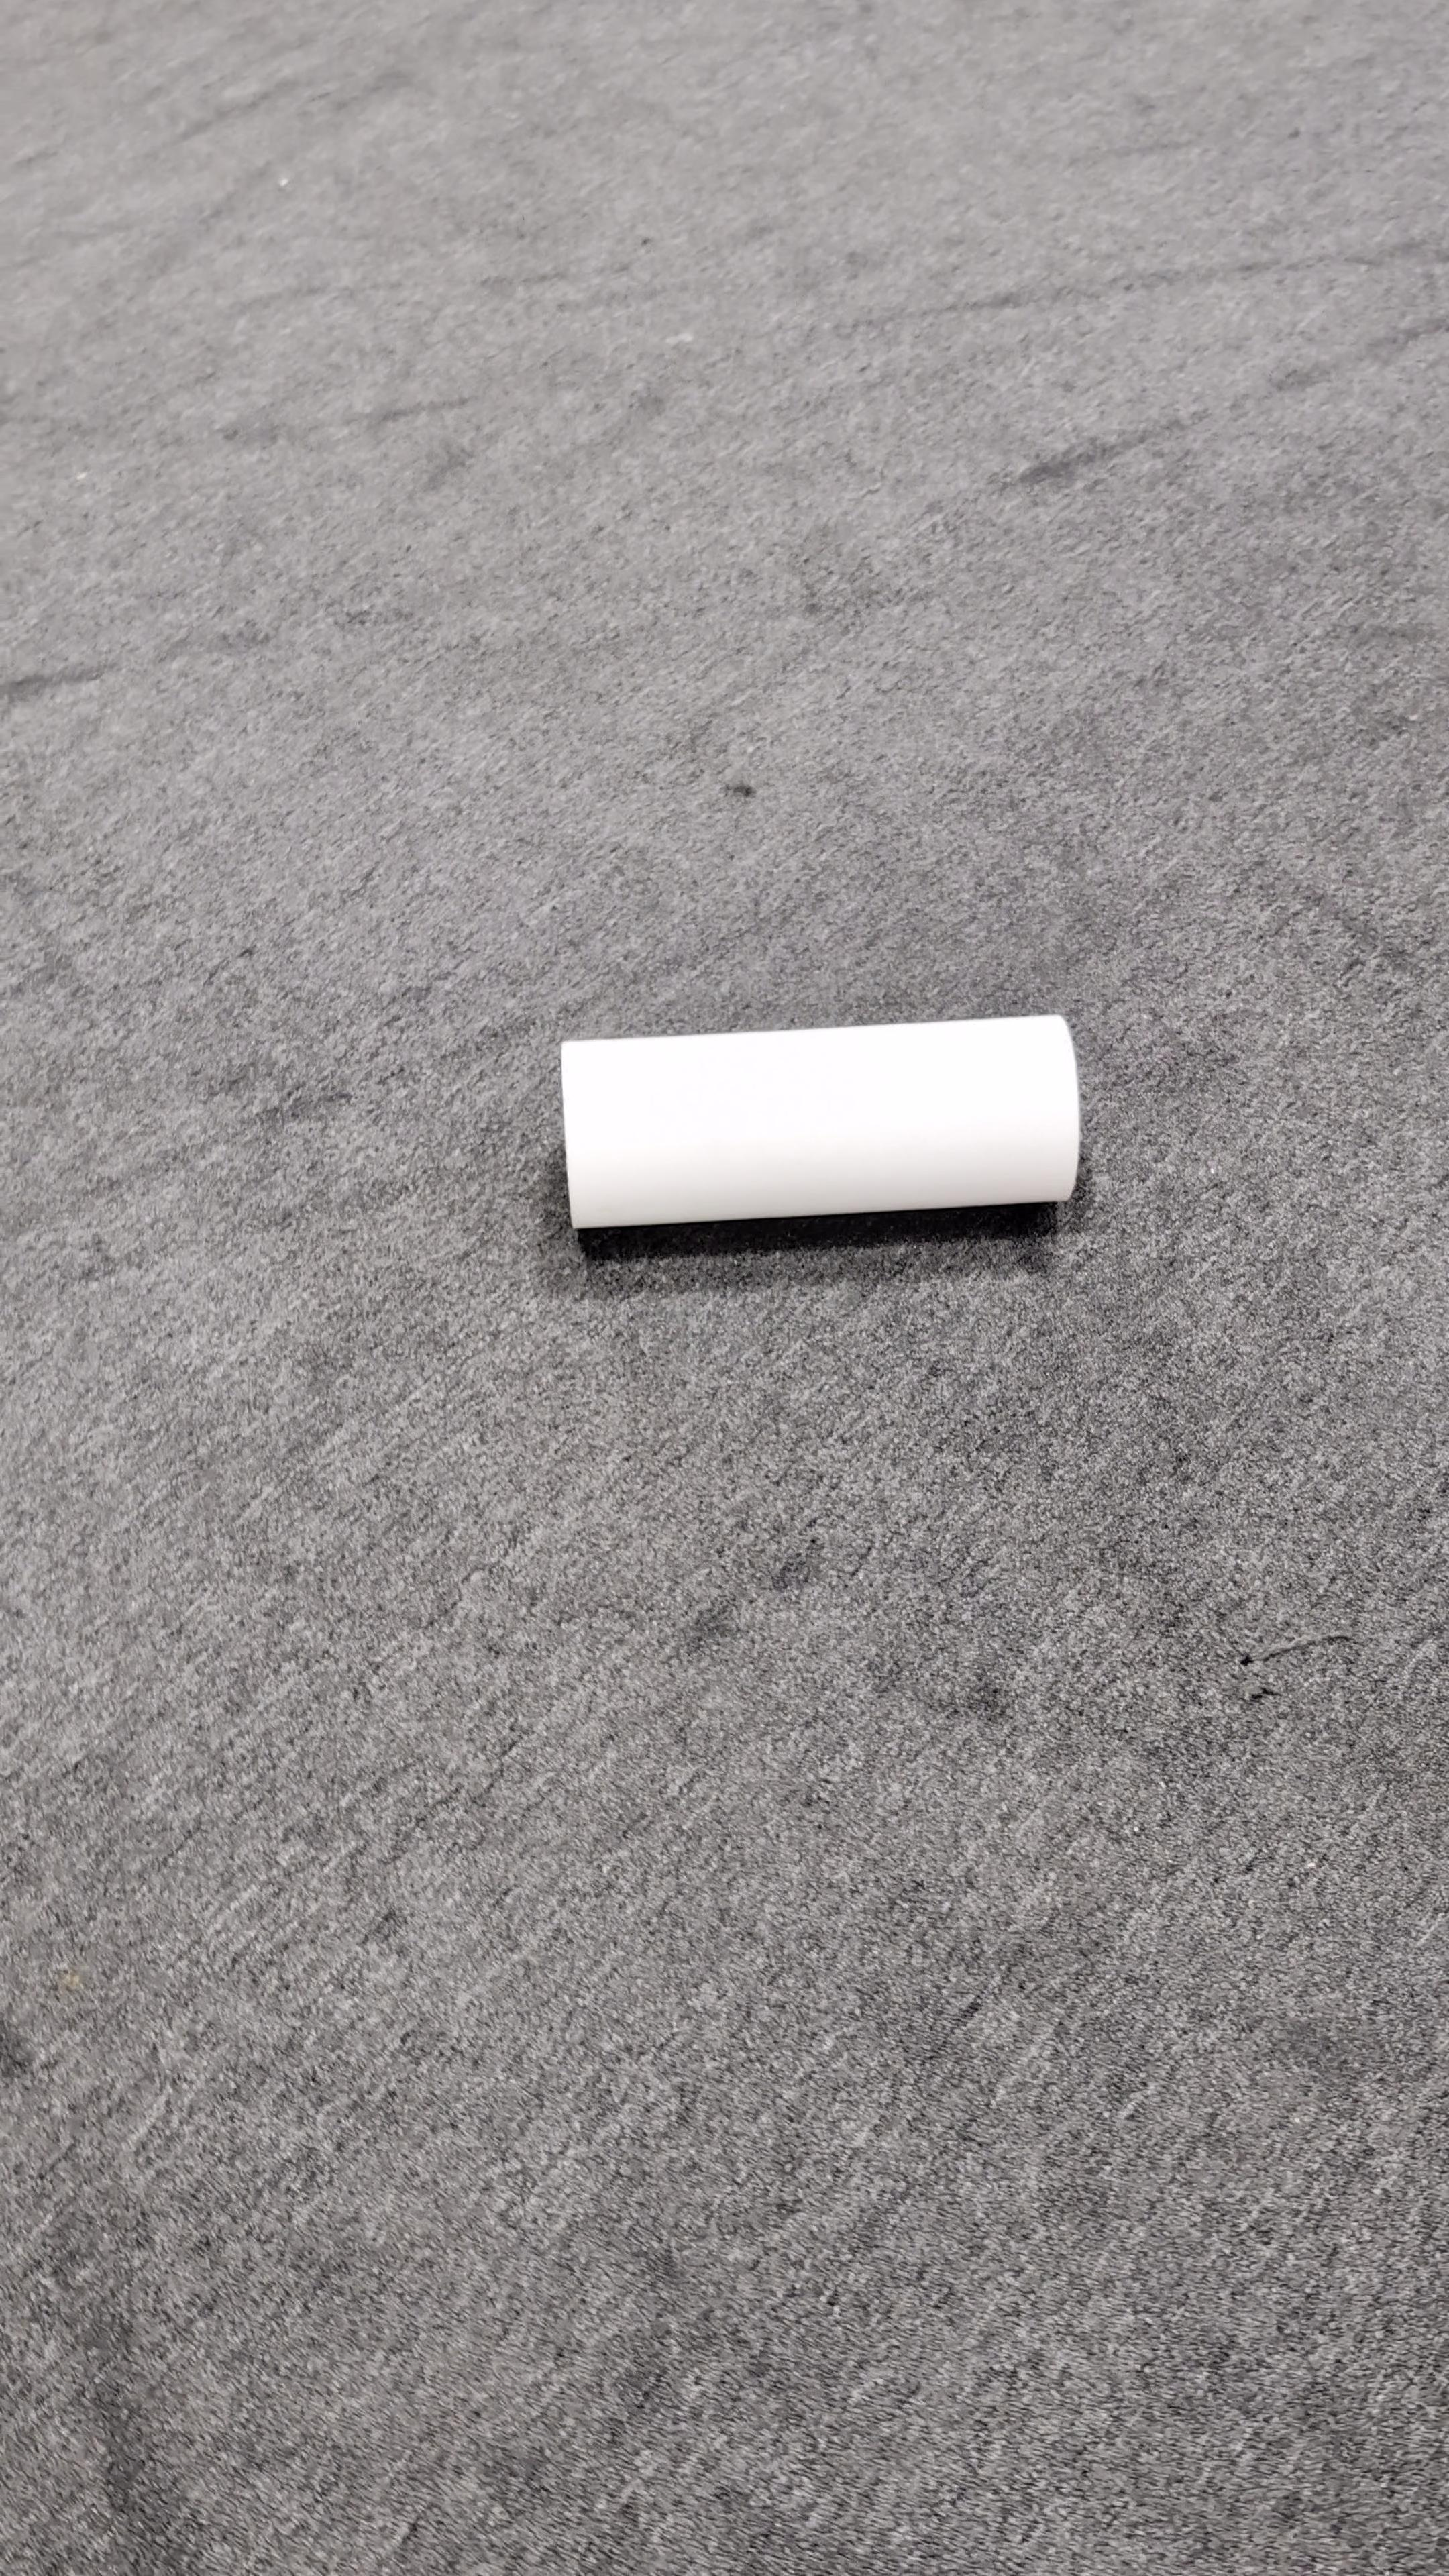coral: (561, 1008, 1083, 1230)
